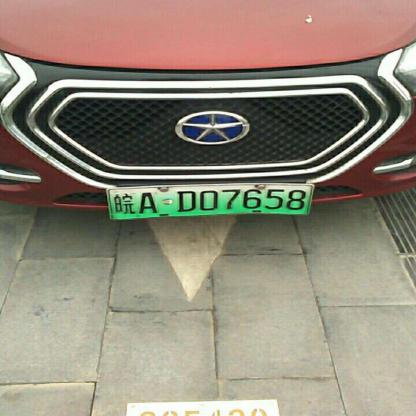lp: (108, 185, 313, 218)
